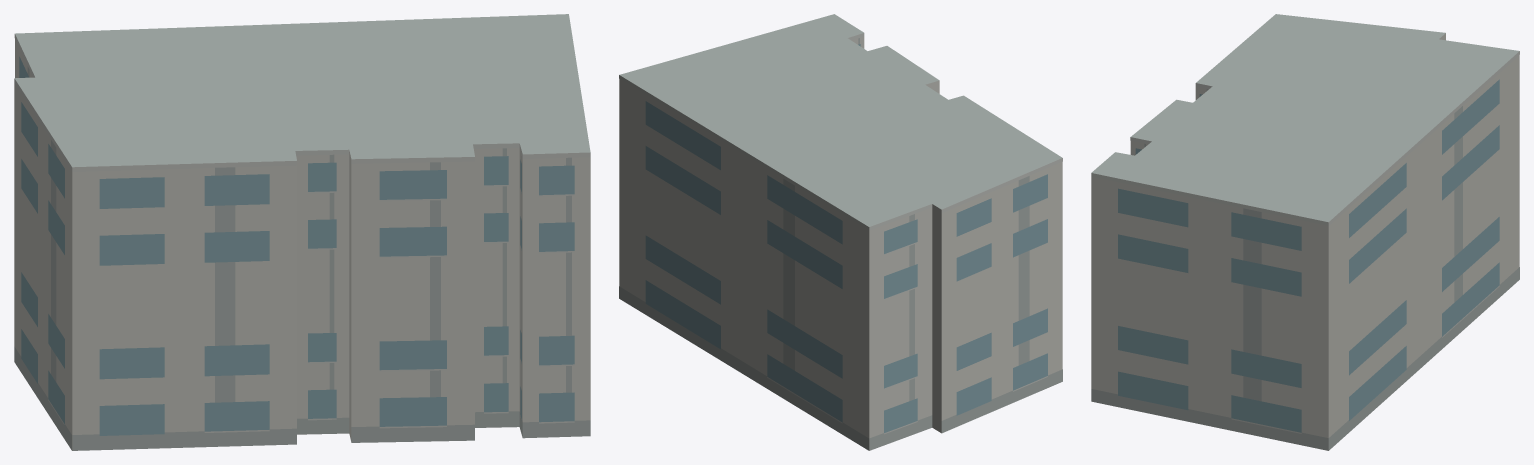
The model's file is survey-upis-32629465.glb.
3 renders of one model, left to right at view 1: azimuth 30°, elevation 25°; view 2: azimuth 150°, elevation 25°; view 3: azimuth 270°, elevation 25°, orthographic. The views are drawn at different scales.
Visible parts, largest first — view 1: survey-upis-32629465.tmp; view 2: survey-upis-32629465.tmp; view 3: survey-upis-32629465.tmp.
Boxes of the visible parts, x1,y1,x2,y2 form: survey-upis-32629465.tmp: (14,14,590,450); survey-upis-32629465.tmp: (619,14,1062,450); survey-upis-32629465.tmp: (1091,14,1519,450).
Bounding box in the file's own units: 28.88 × 14.78 × 25.11.
